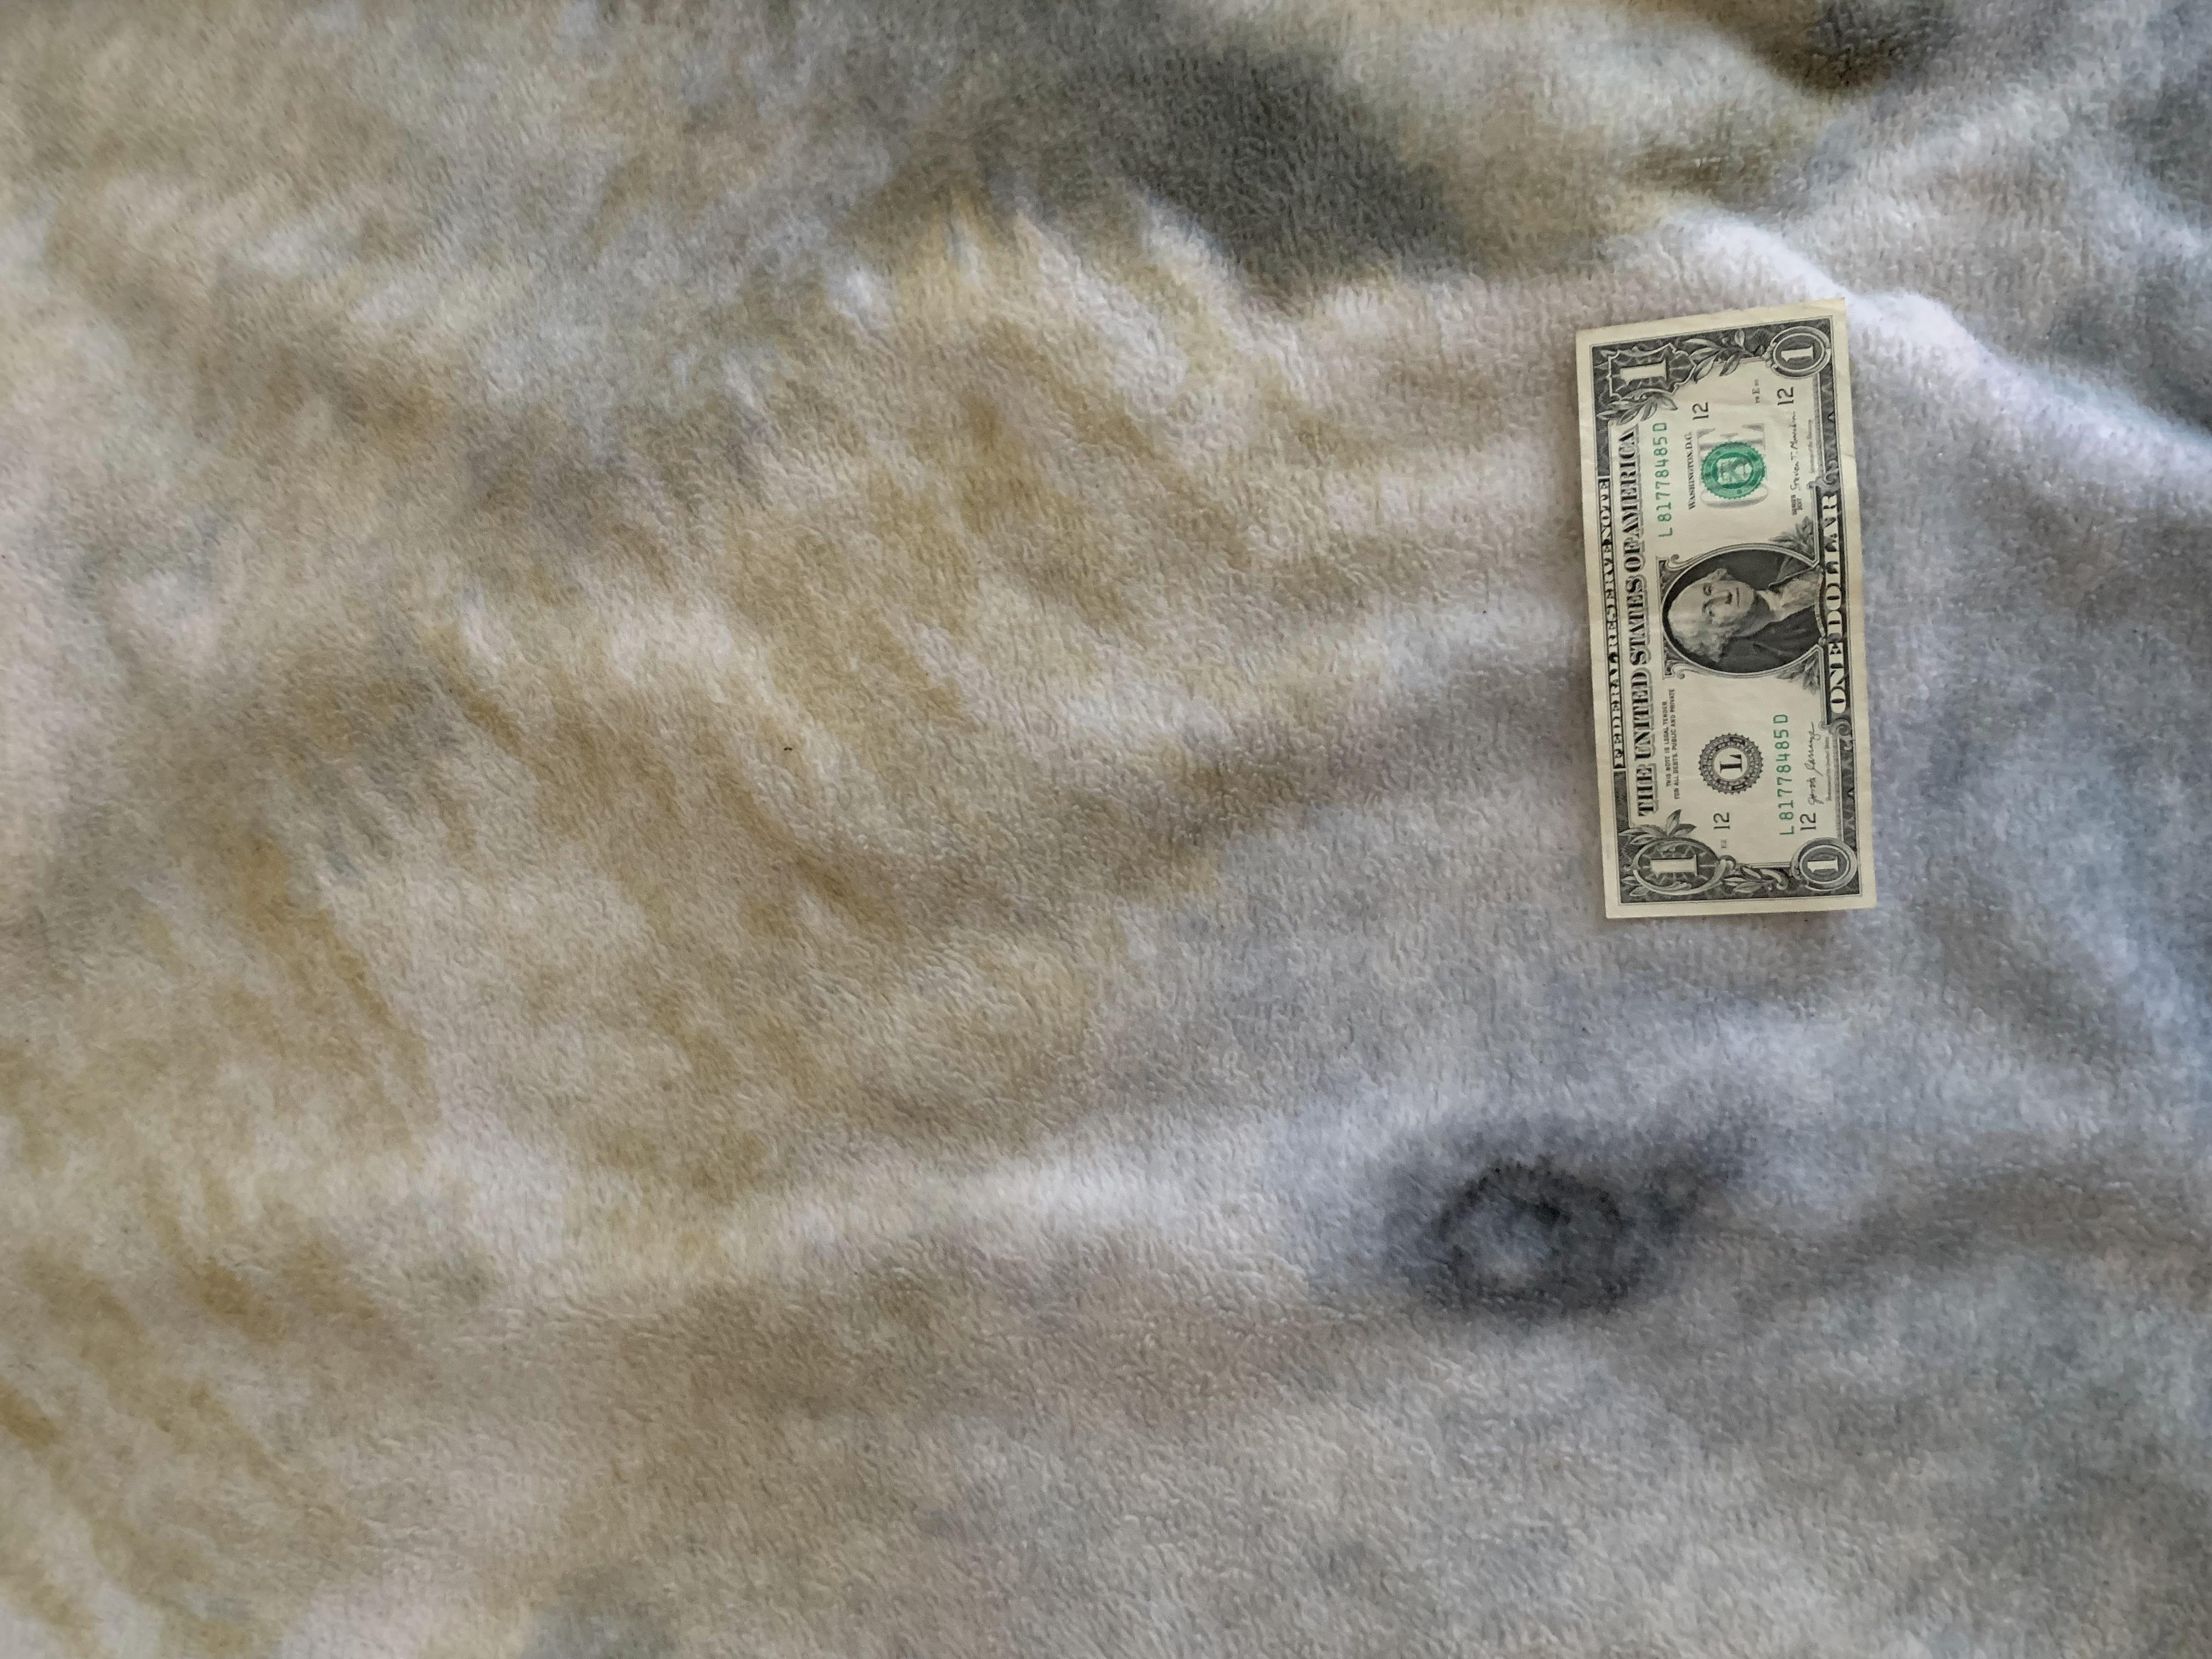OneBill: (1576, 295, 1878, 925)
